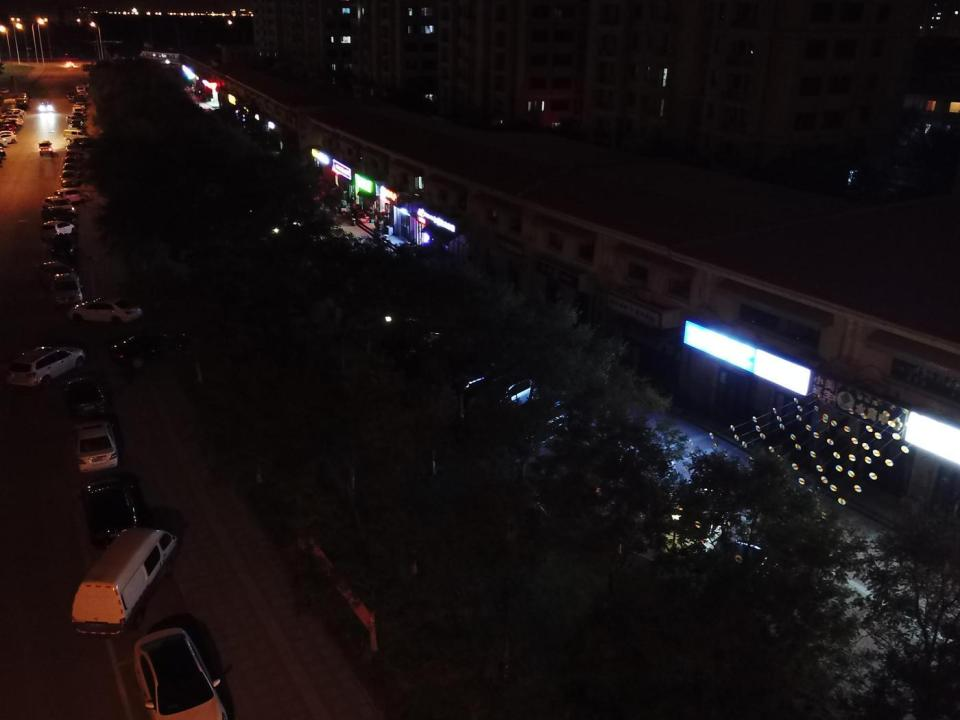car: (130, 626, 232, 720), (76, 473, 144, 548), (3, 342, 87, 390), (461, 368, 546, 415), (106, 326, 196, 368), (68, 419, 119, 472), (65, 294, 143, 326), (60, 376, 105, 419), (34, 258, 78, 286), (51, 276, 84, 305), (41, 218, 76, 240), (41, 195, 76, 215), (55, 184, 90, 204), (42, 204, 76, 224), (50, 232, 75, 257), (60, 170, 80, 186), (36, 140, 55, 156), (57, 160, 77, 175), (36, 100, 56, 114), (0, 114, 24, 125), (1, 109, 24, 120), (1, 107, 26, 117), (69, 118, 85, 132), (0, 123, 19, 134), (62, 155, 78, 168), (64, 148, 80, 161), (1, 121, 19, 132), (64, 114, 80, 126), (64, 141, 80, 152), (73, 137, 90, 147), (0, 133, 17, 143), (0, 129, 15, 140), (72, 111, 84, 121), (77, 94, 87, 106), (71, 106, 84, 115), (65, 96, 78, 104), (75, 101, 86, 110), (65, 90, 75, 99), (75, 84, 86, 92), (72, 104, 82, 112), (77, 86, 86, 94), (66, 60, 75, 68), (80, 82, 91, 88)
van: (70, 523, 182, 640), (63, 126, 92, 146)
